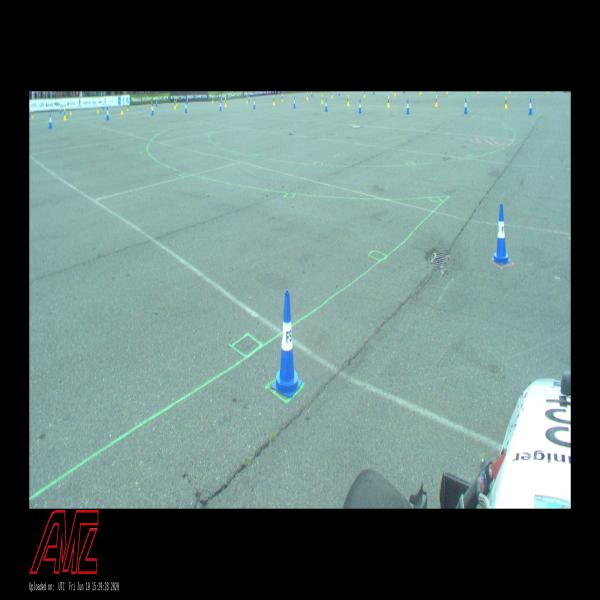blue_cone: (272, 289, 302, 398), (491, 204, 511, 266), (463, 97, 468, 115), (48, 112, 53, 130), (528, 97, 532, 116), (406, 97, 410, 116), (358, 98, 362, 114), (324, 97, 328, 112), (106, 106, 109, 121), (184, 102, 188, 113), (293, 95, 296, 108), (253, 97, 256, 110), (219, 101, 222, 111), (152, 103, 154, 115), (102, 102, 105, 110), (60, 105, 62, 114), (128, 100, 130, 109), (186, 95, 188, 104), (156, 99, 158, 107), (248, 94, 250, 102), (220, 96, 222, 103), (338, 92, 340, 96), (311, 91, 312, 98)
yellow_cone: (386, 94, 390, 108), (504, 95, 508, 109), (435, 94, 438, 108), (63, 108, 66, 121), (346, 94, 349, 107), (121, 103, 124, 115), (224, 96, 227, 107), (273, 94, 275, 105), (321, 94, 323, 104), (174, 100, 176, 110), (70, 106, 72, 116), (151, 100, 153, 110), (246, 94, 248, 104), (127, 103, 129, 112), (212, 95, 214, 104), (363, 92, 366, 98), (306, 92, 308, 100), (281, 94, 283, 102), (97, 105, 99, 113), (32, 110, 34, 118), (331, 92, 333, 99), (176, 99, 178, 106), (394, 92, 396, 97)
